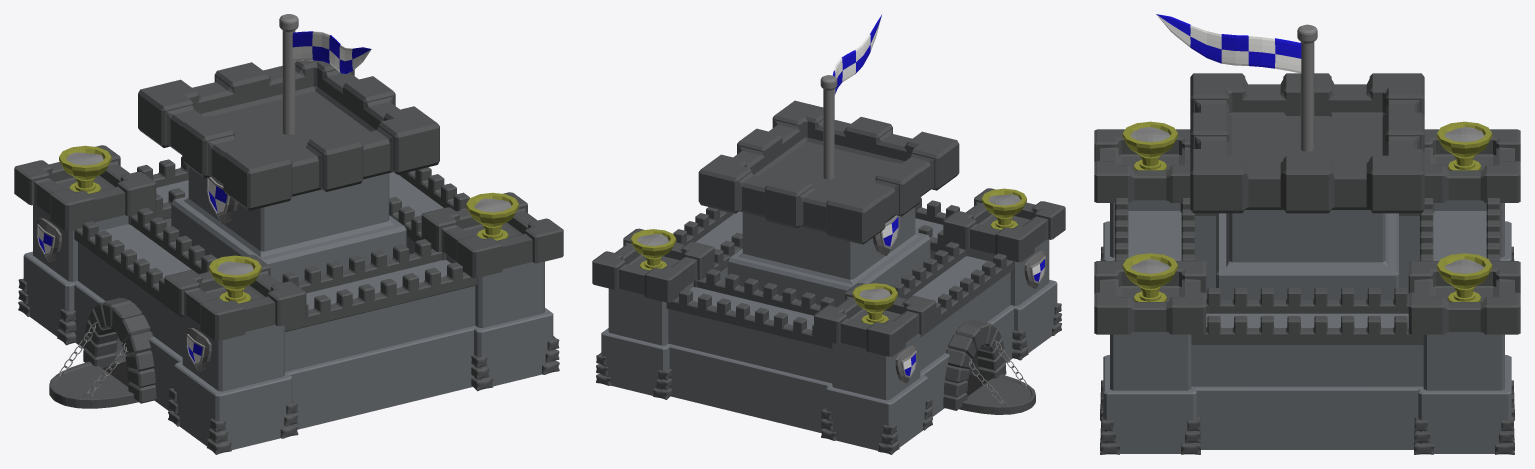
The model's file is Castle-unitiv2 (1) (1).fbx.
The picture shows the model from 3 angles, left to right: view 1: azimuth 30°, elevation 25°; view 2: azimuth 150°, elevation 25°; view 3: azimuth 270°, elevation 25°; orthographic projection. The views are drawn at different scales.
Parts seen in each view (by area): view 1: Cube.028, Cube.027, Cube.030, Cube.031, Plane.002, Cube.029, Cube.034, Cube.035, Cylinder.009, Cylinder.011, Cube.033, Cube.032 (+1 smaller); view 2: Cube.028, Cube.027, Cube.030, Cube.031, Plane.002, Cube.029, Cube.034, Cube.035, Cylinder.011, Cube.033, Cylinder.009, Cube.032; view 3: Cube.028, Cube.027, Cube.030, Cube.031, Plane.002, Cylinder.009, Cube.034, Cylinder.011.
Boxes of the visible parts, bbox=[...] form: Cube.028: bbox=[23, 172, 553, 449]; Cube.027: bbox=[138, 60, 439, 283]; Cube.030: bbox=[14, 145, 563, 340]; Cube.031: bbox=[74, 156, 477, 331]; Plane.002: bbox=[59, 145, 518, 303]; Cube.029: bbox=[83, 298, 156, 403]; Cube.034: bbox=[18, 278, 559, 454]; Cube.035: bbox=[49, 361, 138, 408]; Cylinder.009: bbox=[292, 31, 371, 73]; Cylinder.011: bbox=[279, 14, 298, 135]; Cube.033: bbox=[37, 218, 211, 371]; Cube.032: bbox=[206, 176, 237, 223]; Cube.028: bbox=[601, 211, 1057, 450]; Cube.027: bbox=[698, 100, 959, 306]; Cube.030: bbox=[592, 188, 1065, 356]; Cube.031: bbox=[666, 198, 1013, 348]; Plane.002: bbox=[631, 188, 1026, 324]; Cube.029: bbox=[943, 319, 1006, 410]; Cube.034: bbox=[596, 303, 1061, 454]; Cube.035: bbox=[959, 374, 1035, 414]; Cylinder.011: bbox=[820, 75, 837, 179]; Cube.033: bbox=[895, 251, 1045, 383]; Cylinder.009: bbox=[832, 15, 881, 95]; Cube.032: bbox=[873, 215, 899, 255]; Cube.028: bbox=[1103, 200, 1511, 453]; Cube.027: bbox=[1190, 73, 1424, 299]; Cube.030: bbox=[1094, 129, 1520, 334]; Cube.031: bbox=[1115, 198, 1499, 344]; Plane.002: bbox=[1122, 121, 1492, 301]; Cylinder.009: bbox=[1156, 14, 1301, 73]; Cube.034: bbox=[1100, 246, 1514, 454]; Cylinder.011: bbox=[1297, 24, 1317, 151].
Bounding box in the file's own units: 3707 × 2986 × 3193.
